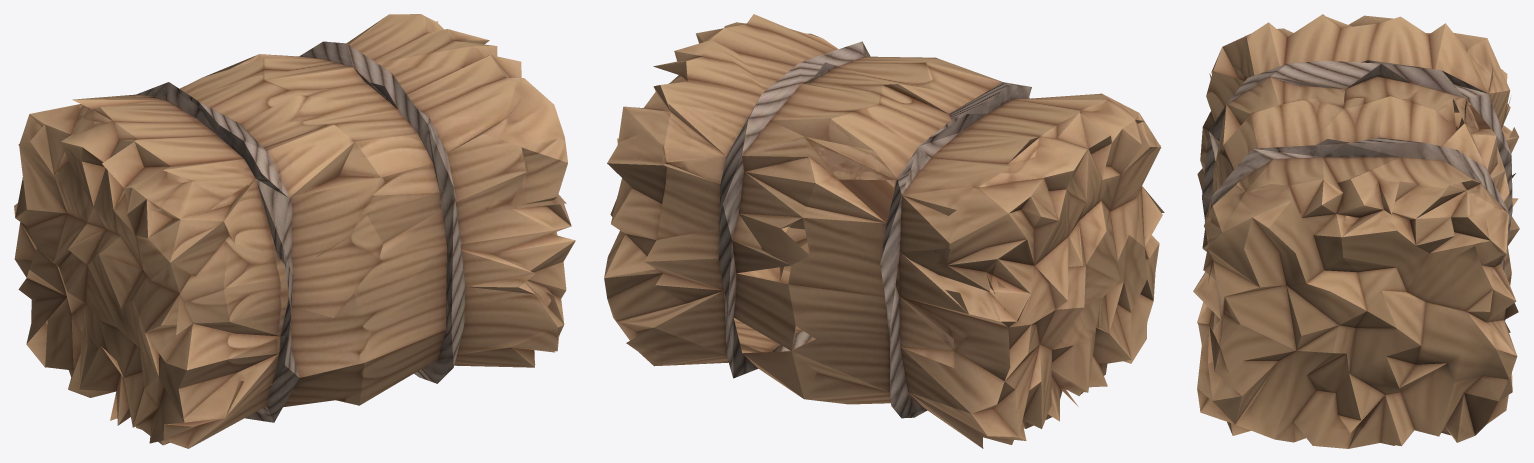
Rendered from hay_bale.glb.
The picture shows the model from 3 angles, left to right: view 1: azimuth 30°, elevation 25°; view 2: azimuth 150°, elevation 25°; view 3: azimuth 270°, elevation 25°; orthographic projection. The views are drawn at different scales.
Size of the model in its own units: 1.9 by 1.24 by 1.34.
Materials: 1 (1 with a texture image).
